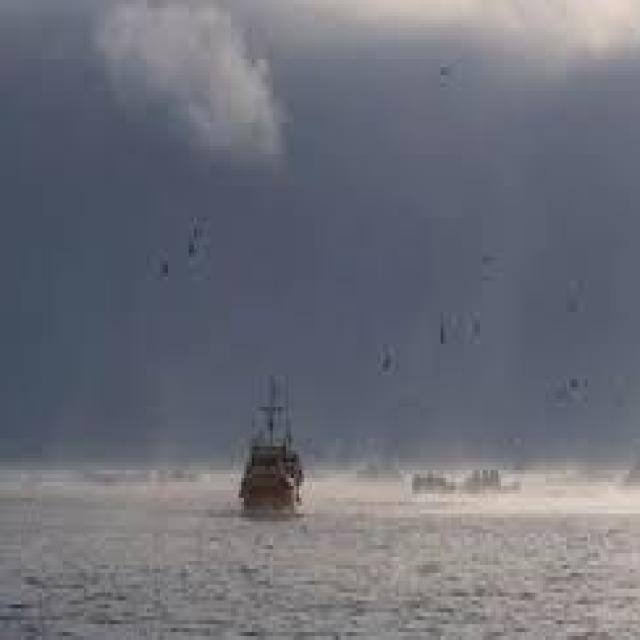fishing boat: (240, 370, 316, 518)
